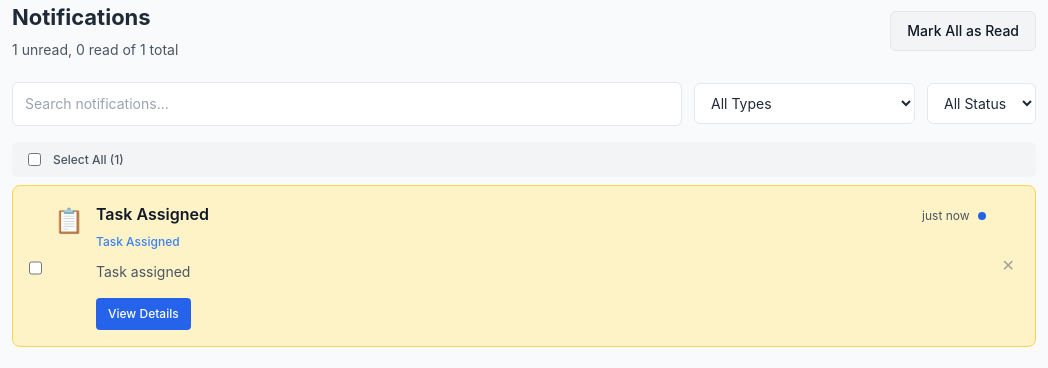
Test case: NotificationsView › clears filters when clear button clicked
The width and height of the screenshot is (1048, 368).
Step 1. Type "test" into the field with placeholder "Search notifications..." → (347, 104), box [12,82,682,126]
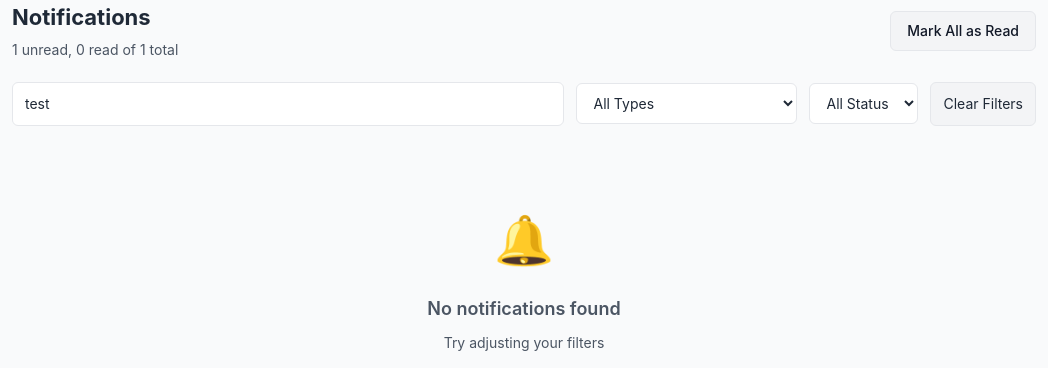
Step 2. Click the button "Clear Filters" → (983, 104), box [930,82,1036,126]
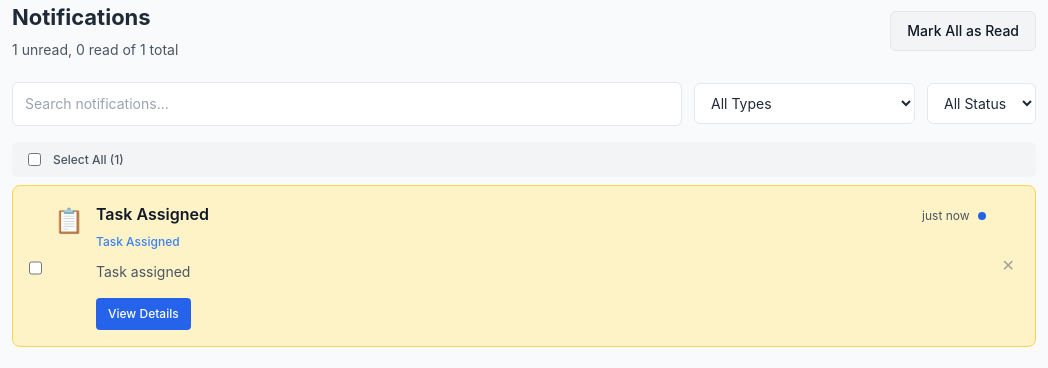
Expected: the field with placeholder "Search notifications..." is empty, [12,82,682,126]
